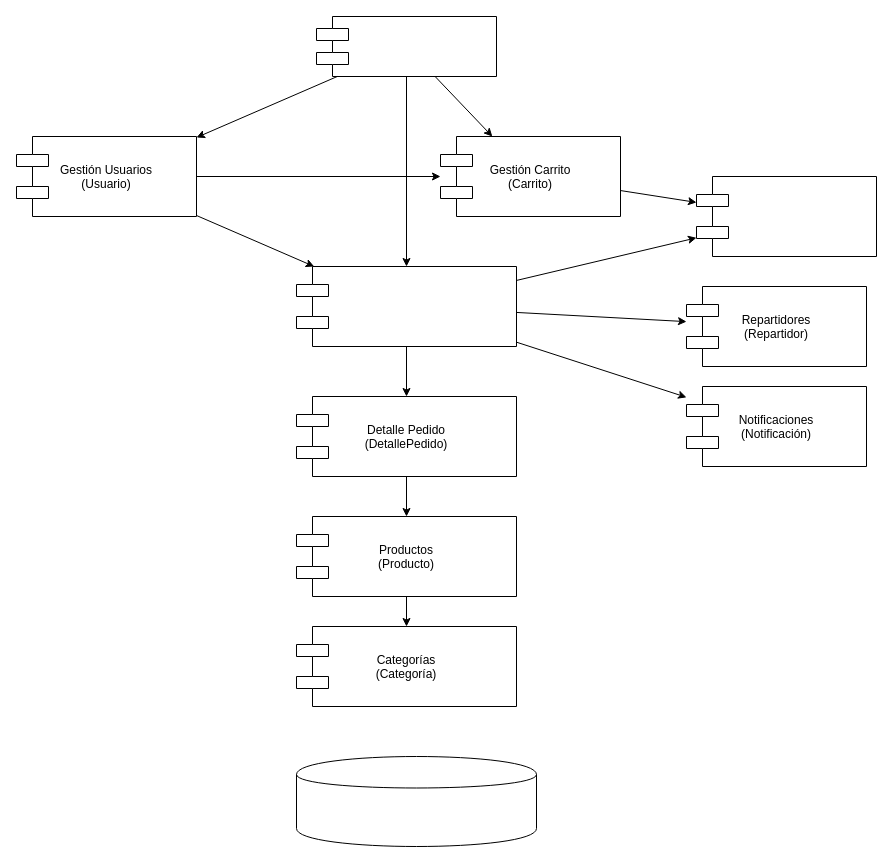
Some shapes in this 893 by 863 pixel diagram are drawn without their labels. Each missing label, with the centre of its shape:
Base de Datos: (416,801)
Gestión Pedidos (Pedido, EstadoPedido): (406,306)
Interfaz Web/App: (406,46)
Pagos (Pago): (786,216)
